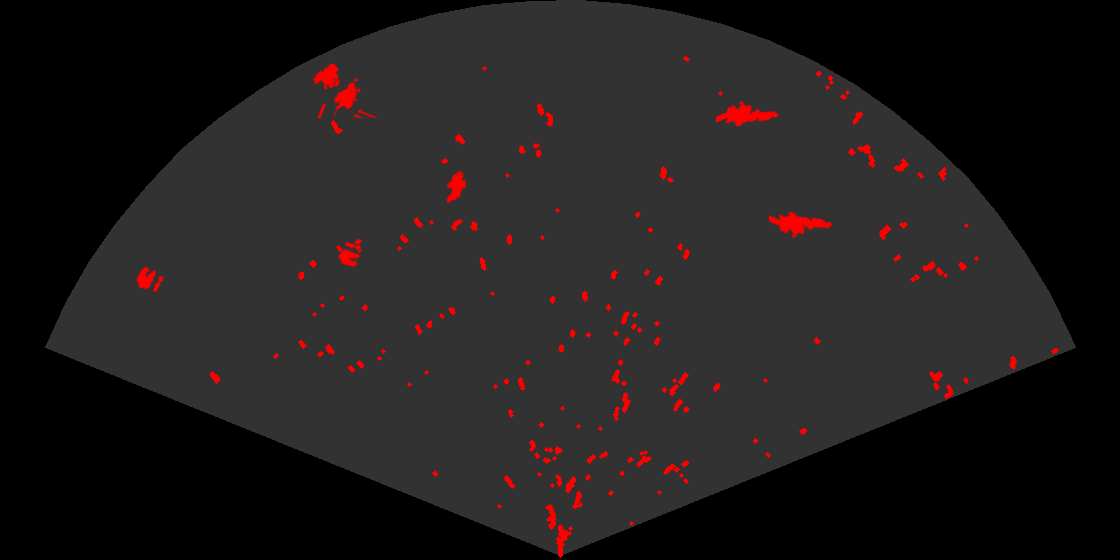AUV: (445, 169, 468, 205)
ball: (135, 265, 165, 294), (336, 240, 363, 269)
cage: (311, 62, 377, 118)
frogman: (769, 210, 834, 240), (716, 99, 780, 128)
